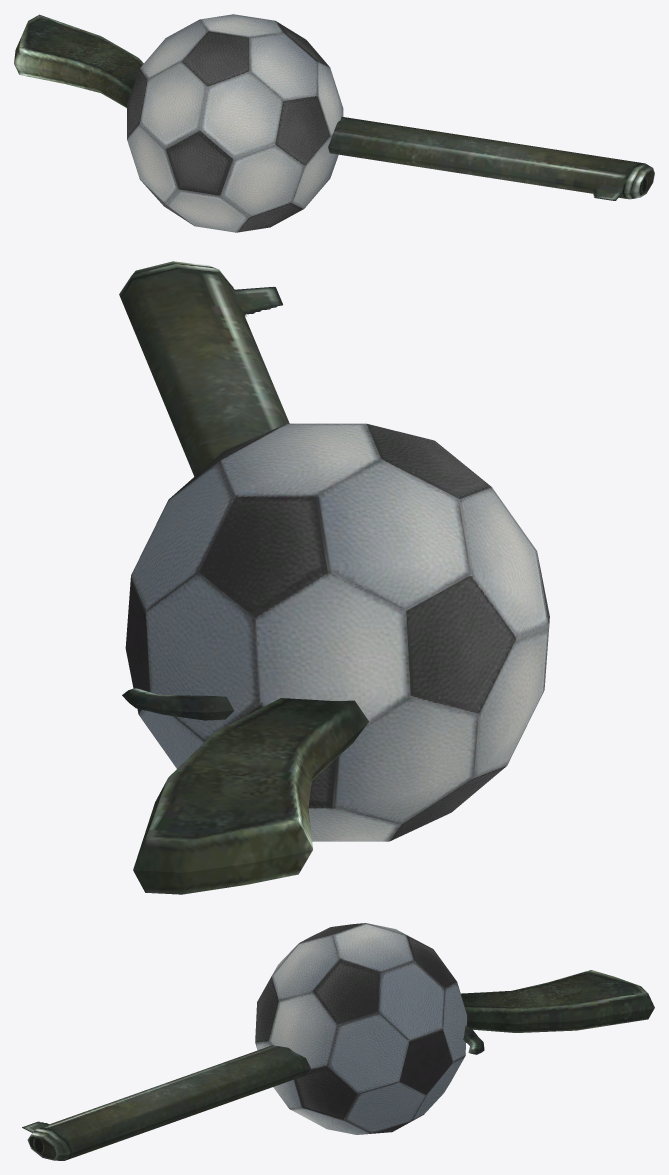
The picture shows the model from 3 angles, top to bottom: view 1: azimuth 30°, elevation 25°; view 2: azimuth 150°, elevation 25°; view 3: azimuth 270°, elevation 25°; orthographic projection. The views are drawn at different scales.
Visible parts, largest first — view 1: i010010; view 2: i010010; view 3: i010010.
Part boxes in pixels (x1,y1,x2,y2): i010010: (14, 14, 654, 232); i010010: (119, 261, 549, 894); i010010: (22, 923, 654, 1160).
Bounding box in the file's own units: 51.56 × 25.93 × 79.66.
Materials: 1 (1 with a texture image).
